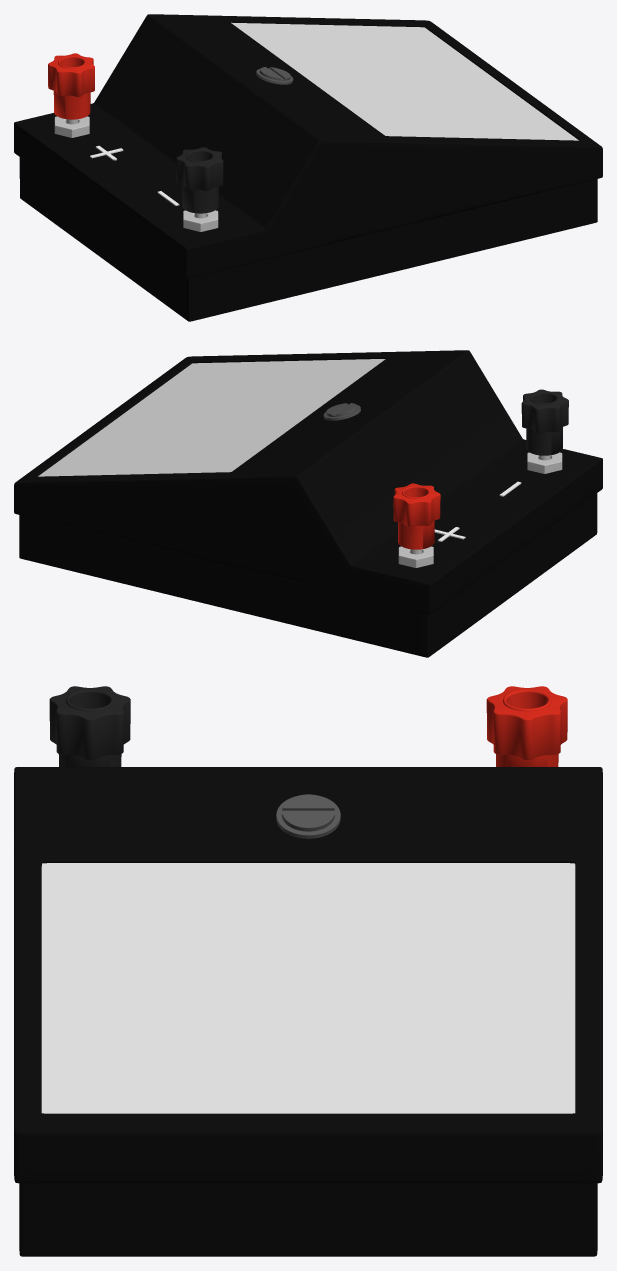
File: voltmeter.fbx
3 renders of one model, top to bottom at view 1: azimuth 30°, elevation 25°; view 2: azimuth 150°, elevation 25°; view 3: azimuth 270°, elevation 25°, orthographic. The views are drawn at different scales.
Parts seen in each view (by area): view 1: Cube_007; view 2: Cube_007; view 3: Cube_007.
Boxes of the visible parts, bbox=[...] form: Cube_007: bbox=[14, 14, 602, 321]; Cube_007: bbox=[14, 350, 602, 657]; Cube_007: bbox=[14, 686, 602, 1256].
Bounding box in the file's own units: 1266 × 440 × 909.
